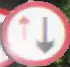Two way: (2, 2, 69, 66)
